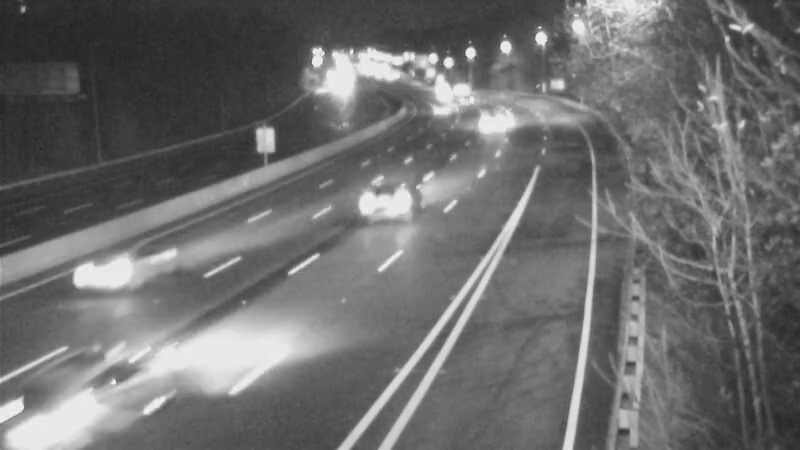vehicle: (1, 353, 111, 450), (347, 157, 427, 237), (73, 238, 153, 318), (438, 60, 488, 110), (410, 84, 460, 134), (472, 96, 522, 146)
